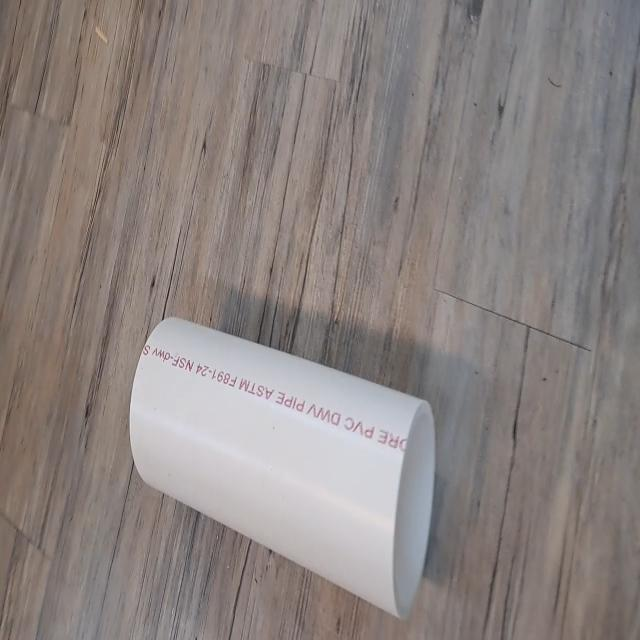CORAL: (125, 307, 436, 624)
